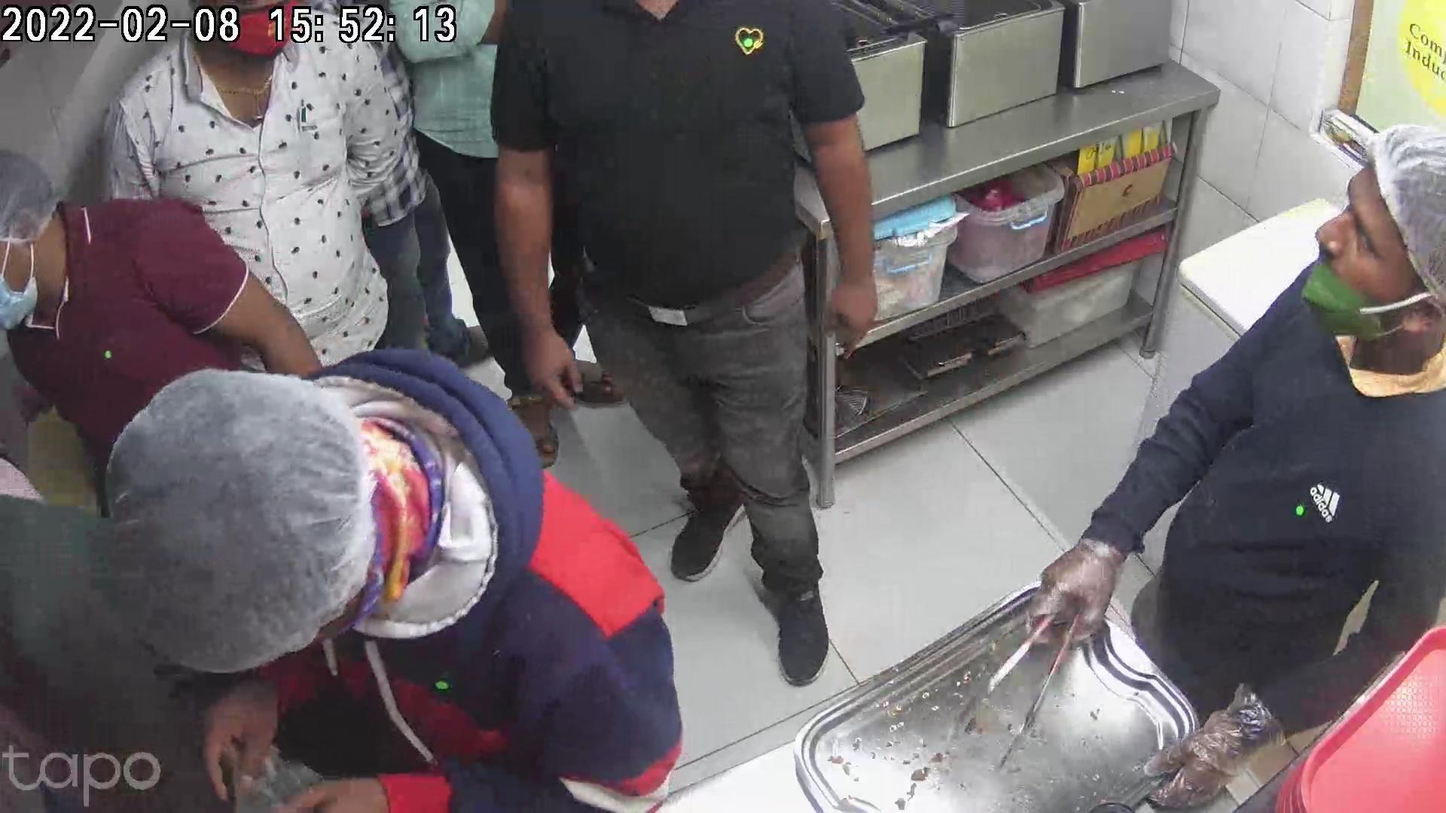no_gloves: (511, 304, 580, 407)
